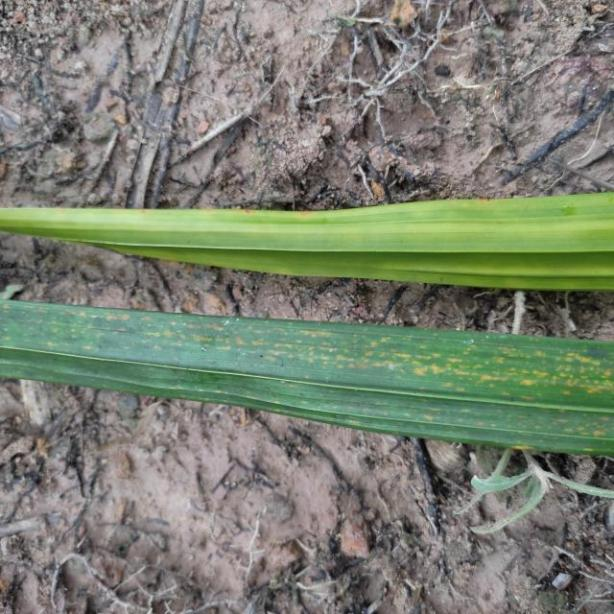nitrogen: (3, 300, 614, 449), (6, 190, 614, 291)
